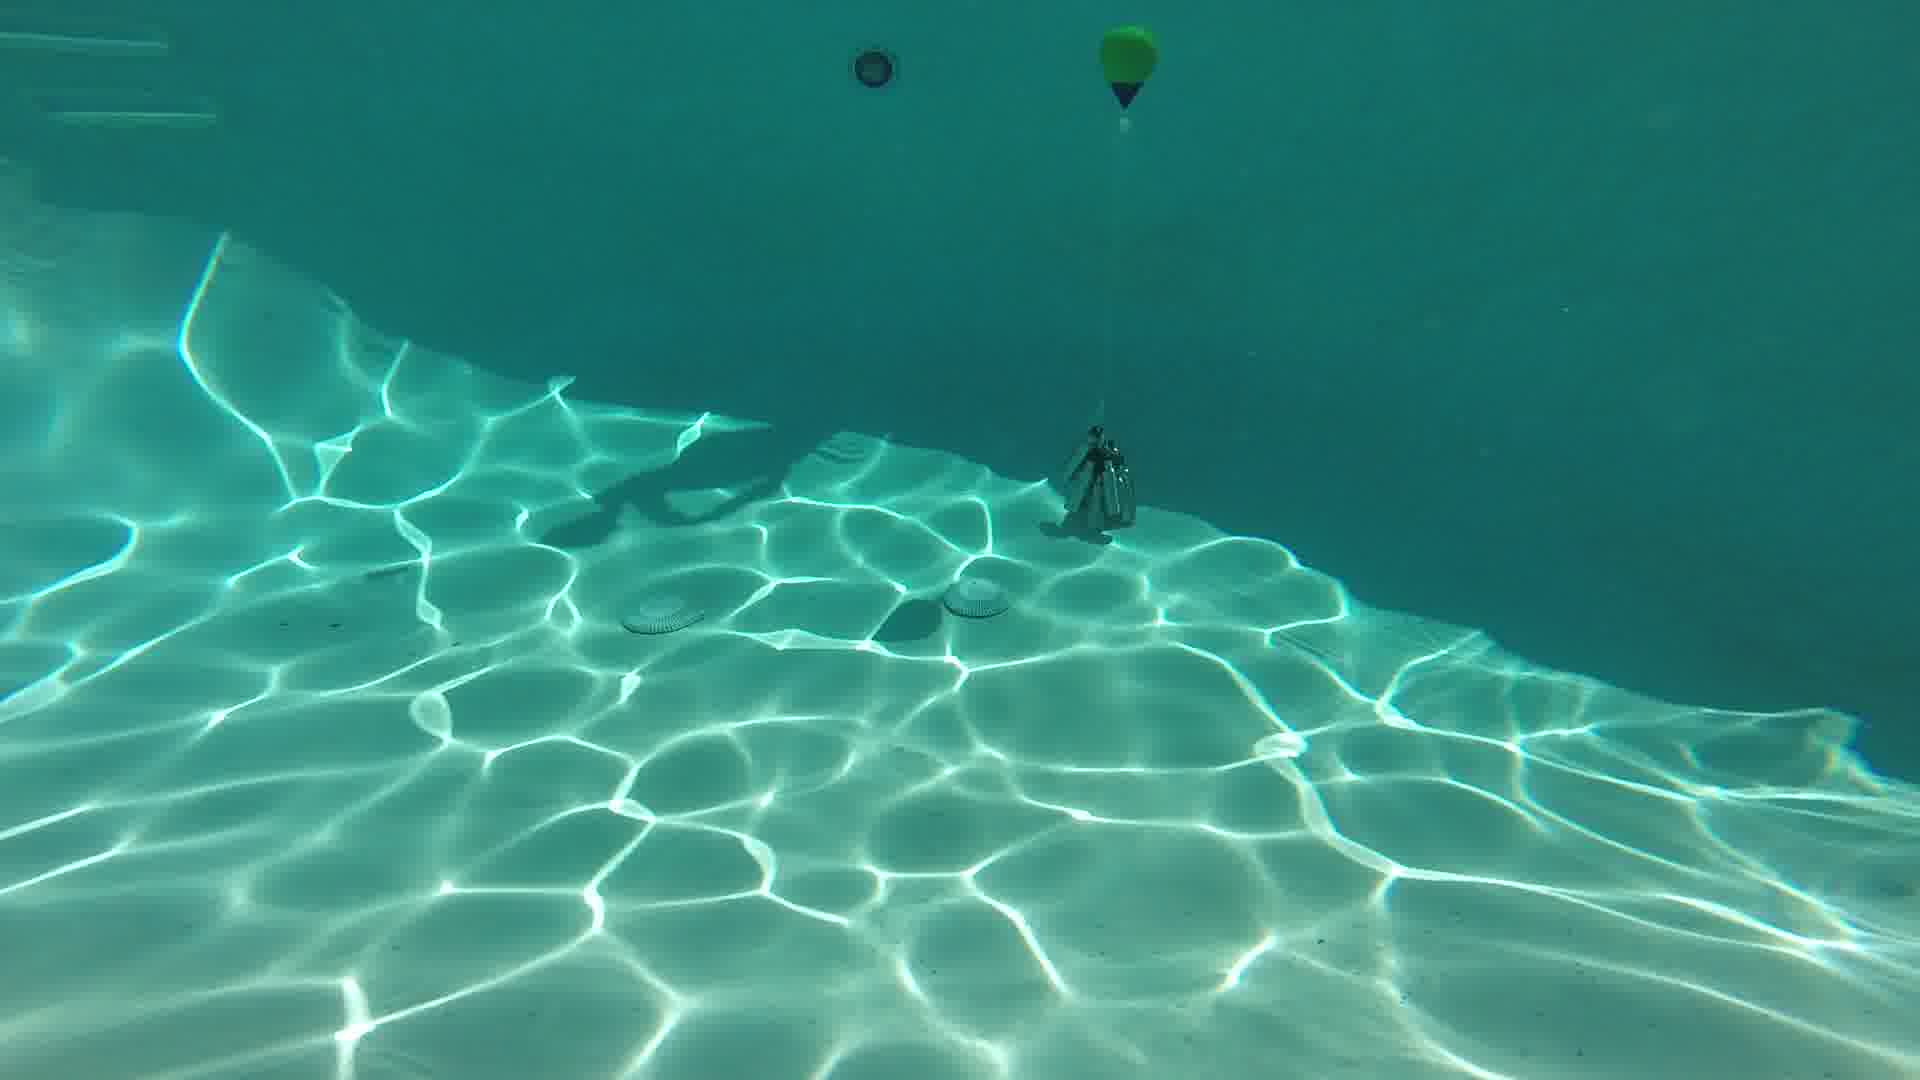yellow_buoy: (1100, 28, 1159, 107)
